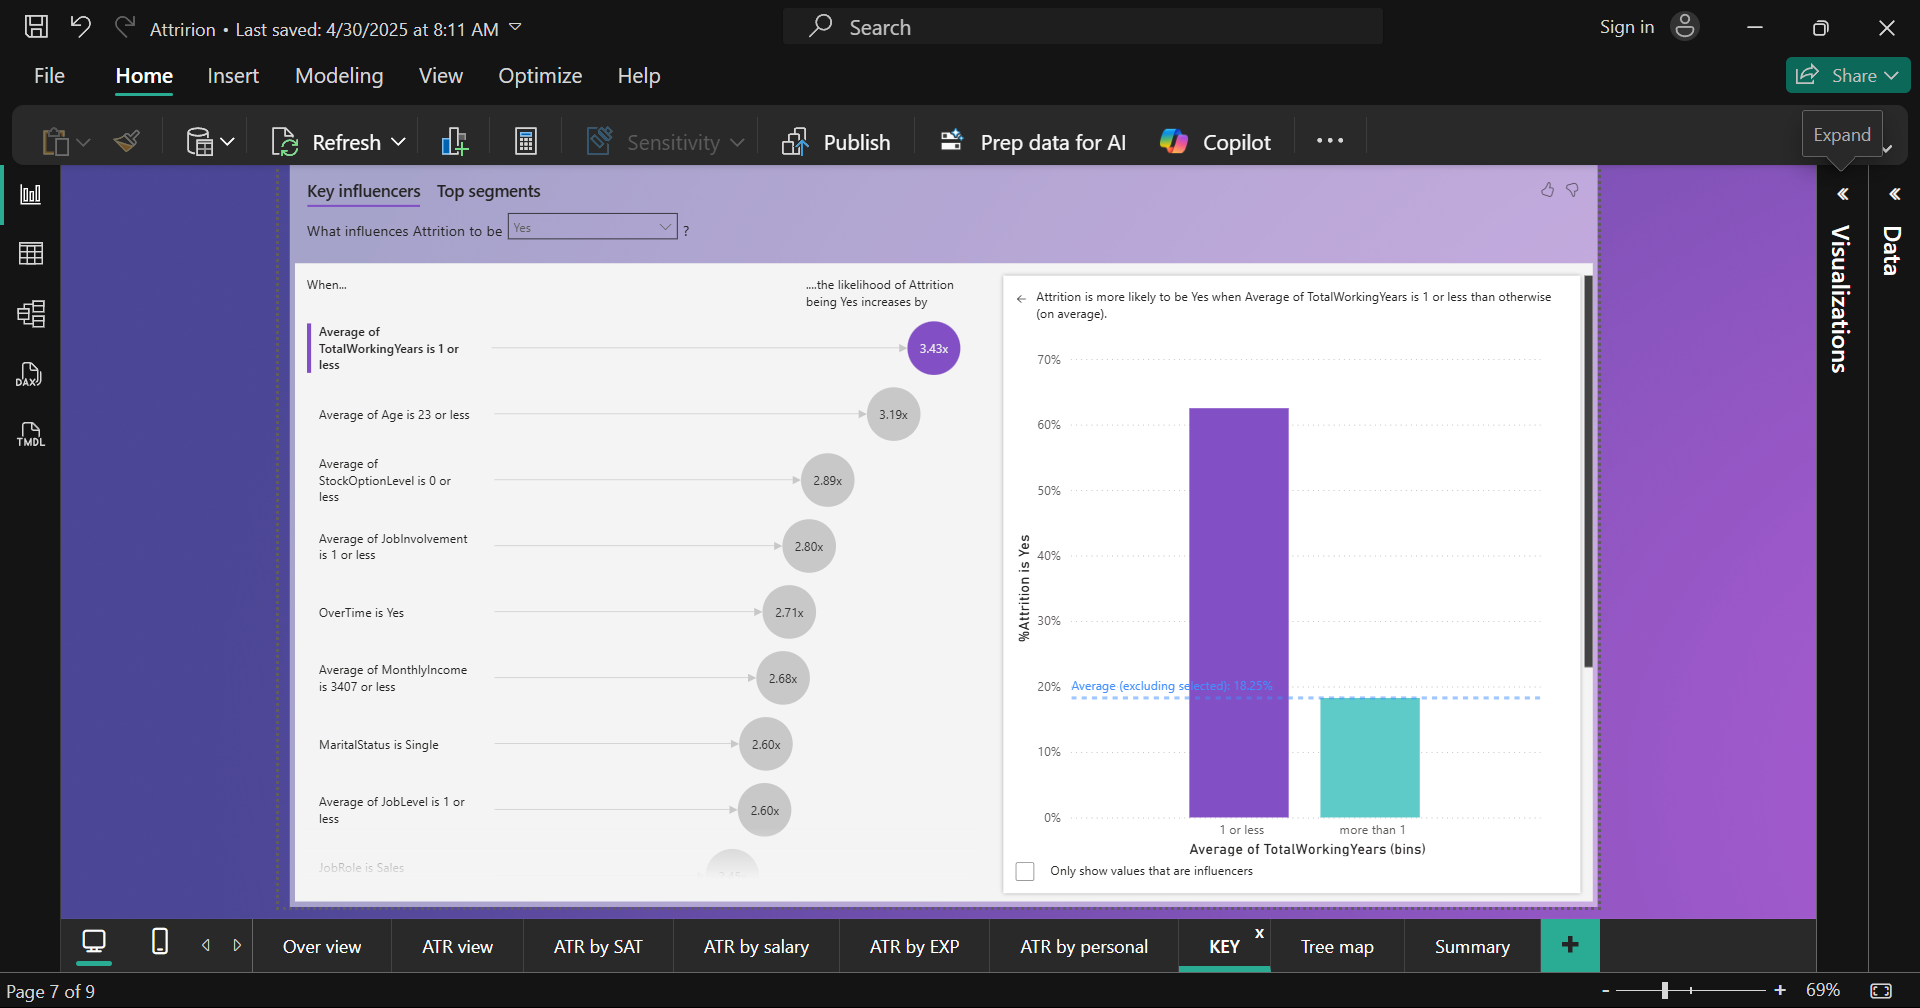

This screenshot's page, from the dashboard's own definition file:
{"tool":"powerbi","page":{"name":"KEY","canvas":[1280,720],"ordinal":6},"visuals":[{"type":"keyDriversVisual","fields":{"Target":["clean data.Attrition"],"ExplainBy":["Avg(clean data.Age)","clean data.BusinessTravel","Avg(clean data.DailyRate)","clean data.Department","Avg(clean data.DistanceFromHome)","Avg(clean data.Education)","clean data.EducationField","Avg(clean data.EnvironmentSatisfaction)","clean data.Gender","Avg(clean data.HourlyRate)","Avg(clean data.JobInvolvement)","Avg(clean data.JobLevel)"]},"box":[9.9,0,1269.6,719.8],"z":0}]}

Visuals, with their boxes on the page's 1280x720 design canvas (x1, y1, x2, y2). These are canvas units, not pixel positions in the 1920x1008 screenshot, which may show the page scaled, cropped or inside an application window:
keyDriversVisual - clean data.Attrition x Avg(clean data.Age): <bbox>10, 0, 1280, 720</bbox>
